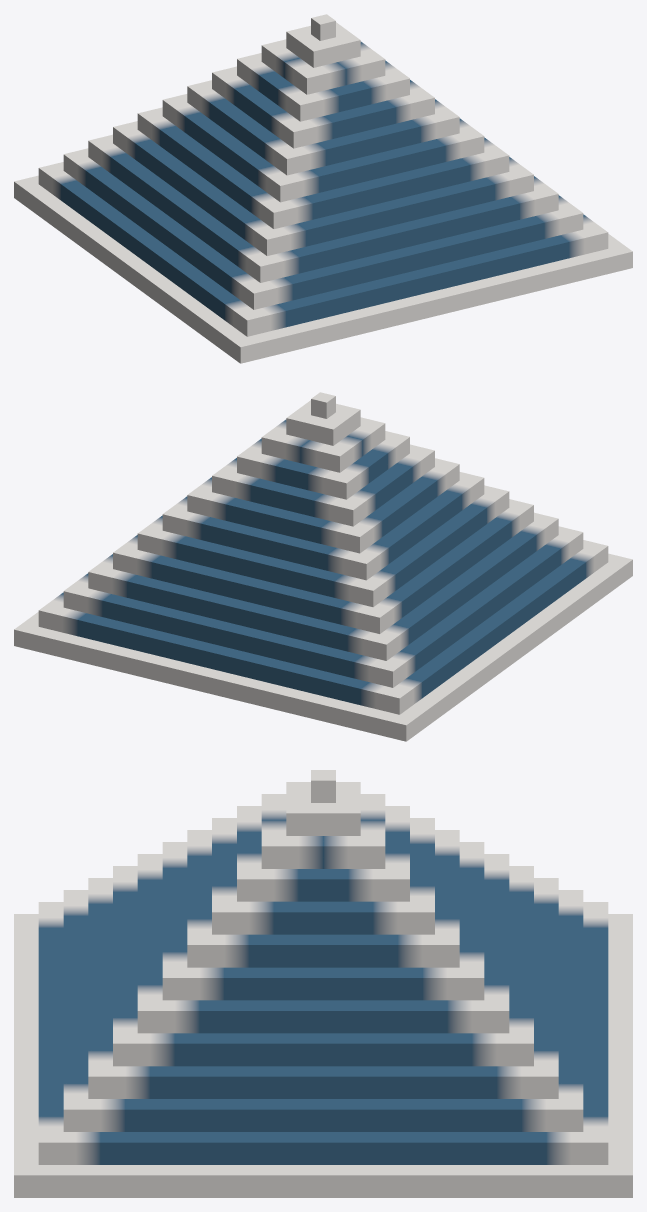
The model's file is BlueBuildRoof.fbx.
3 views of the same model, one above another, from view 1: azimuth 30°, elevation 25°; view 2: azimuth 150°, elevation 25°; view 3: azimuth 270°, elevation 25° (orthographic). The views are drawn at different scales.
Parts seen in each view (by area): view 1: Box; view 2: Box; view 3: Box.
Part boxes in pixels (x1=…): Box: x1=14, y1=14, x2=632, y2=363; Box: x1=14, y1=392, x2=632, y2=741; Box: x1=14, y1=770, x2=632, y2=1197.
Size of the model in its own units: 25 by 13 by 25.
Materials: 1 (1 with a texture image).
